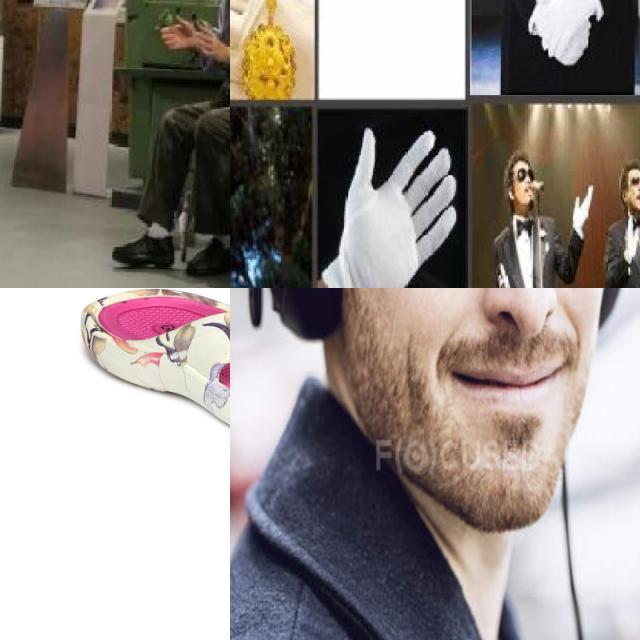Ear-protection: (230, 288, 639, 531)
Sandals: (77, 288, 230, 456)
face_nomask: (506, 162, 533, 209), (623, 172, 640, 203)
hand_glove: (333, 126, 457, 288), (230, 0, 313, 100), (527, 0, 591, 67), (572, 182, 596, 240), (624, 214, 640, 263), (496, 260, 514, 288)
hand_noglove: (156, 14, 194, 54), (194, 24, 225, 64)
head_nohelmet: (504, 146, 533, 166), (627, 158, 640, 178)
person: (130, 0, 230, 266), (496, 141, 597, 288), (605, 154, 640, 288)
shoes: (106, 227, 176, 270), (183, 235, 230, 276)
